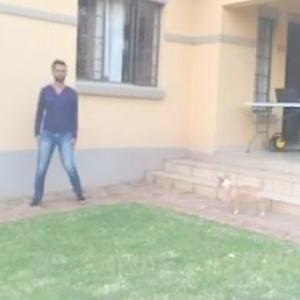follow: (48, 63, 92, 209)
